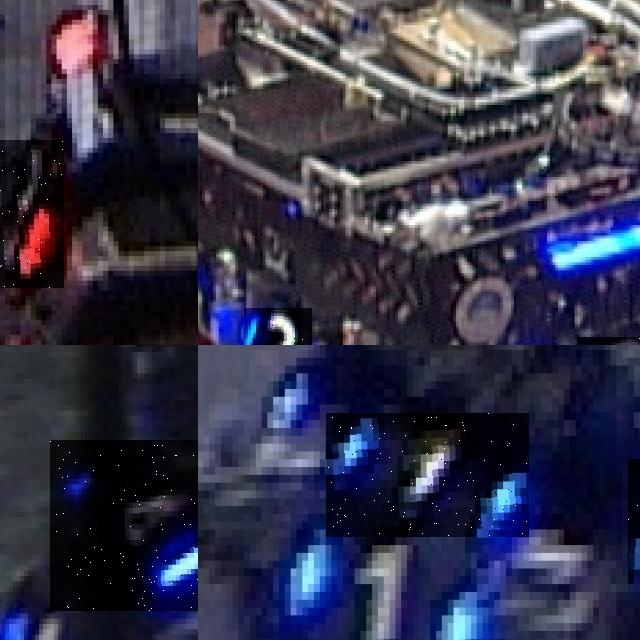B1: (326, 413, 529, 537), (284, 529, 488, 640)
B2: (243, 307, 312, 345)
B4: (50, 440, 198, 610)
R3: (0, 140, 64, 287)
